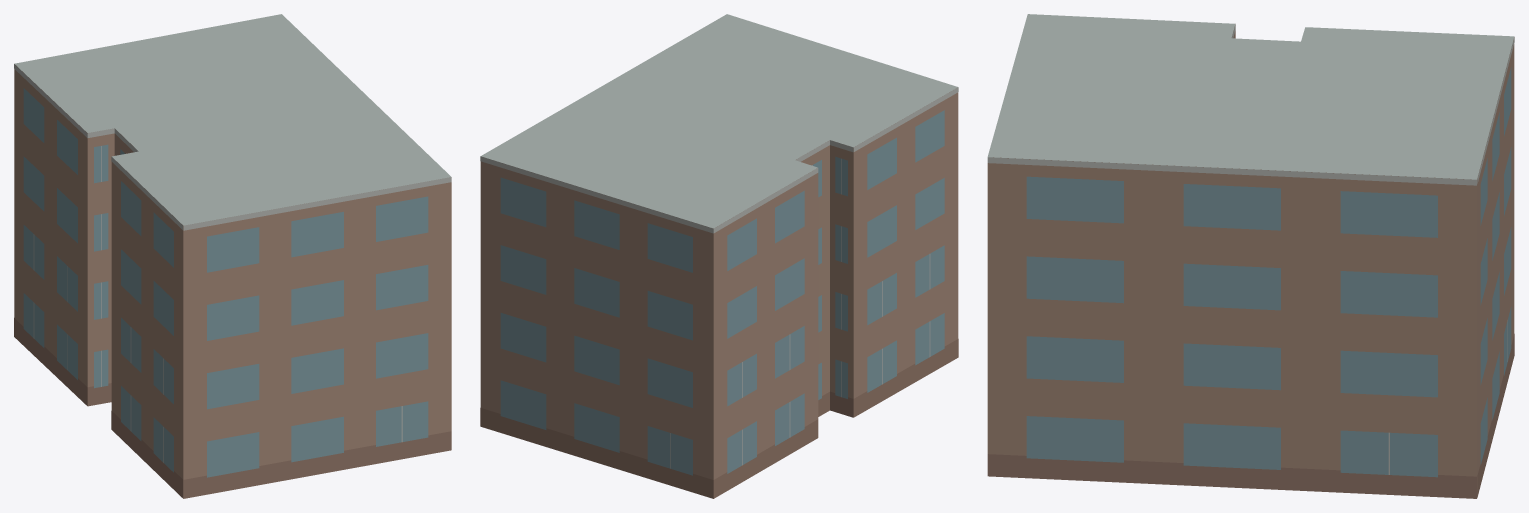
File: survey-upis-32659145.glb
The picture shows the model from 3 angles, left to right: view 1: azimuth 30°, elevation 25°; view 2: azimuth 150°, elevation 25°; view 3: azimuth 270°, elevation 25°; orthographic projection. The views are drawn at different scales.
Parts seen in each view (by area): view 1: survey-upis-32659145.tmp; view 2: survey-upis-32659145.tmp; view 3: survey-upis-32659145.tmp.
Boxes of the visible parts, x1=… form: survey-upis-32659145.tmp: x1=14, y1=14, x2=451, y2=498; survey-upis-32659145.tmp: x1=480, y1=14, x2=958, y2=498; survey-upis-32659145.tmp: x1=987, y1=14, x2=1514, y2=498.
Bounding box in the file's own units: 14.59 × 13.1 × 19.61.
